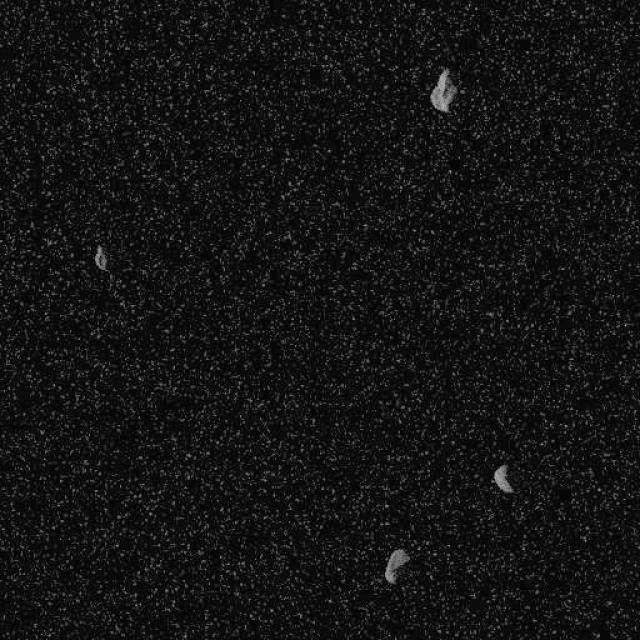D2: (428, 68, 458, 112), (384, 547, 408, 585), (491, 462, 514, 493), (92, 244, 109, 271)
